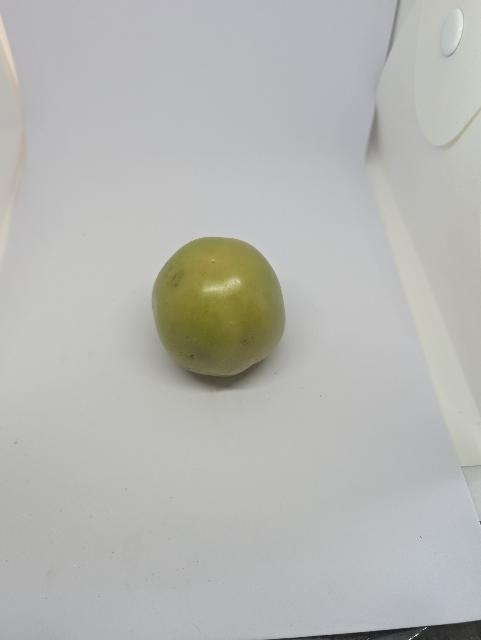green: (144, 228, 296, 381)
